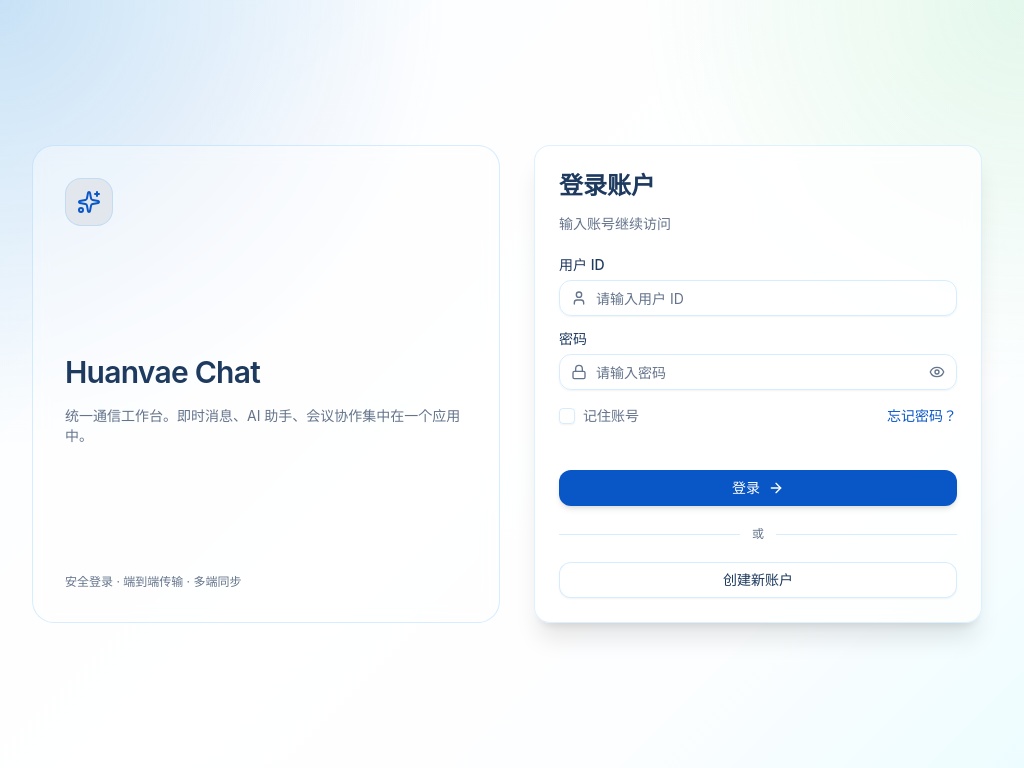
LoginForm —— 「忘记密码」 › 点击后给出可操作的说明，而不是毫无反应
Expected: the text "联系管理员" is not shown
Click the button "忘记密码？" at (922, 416), box [887,406,957,426]
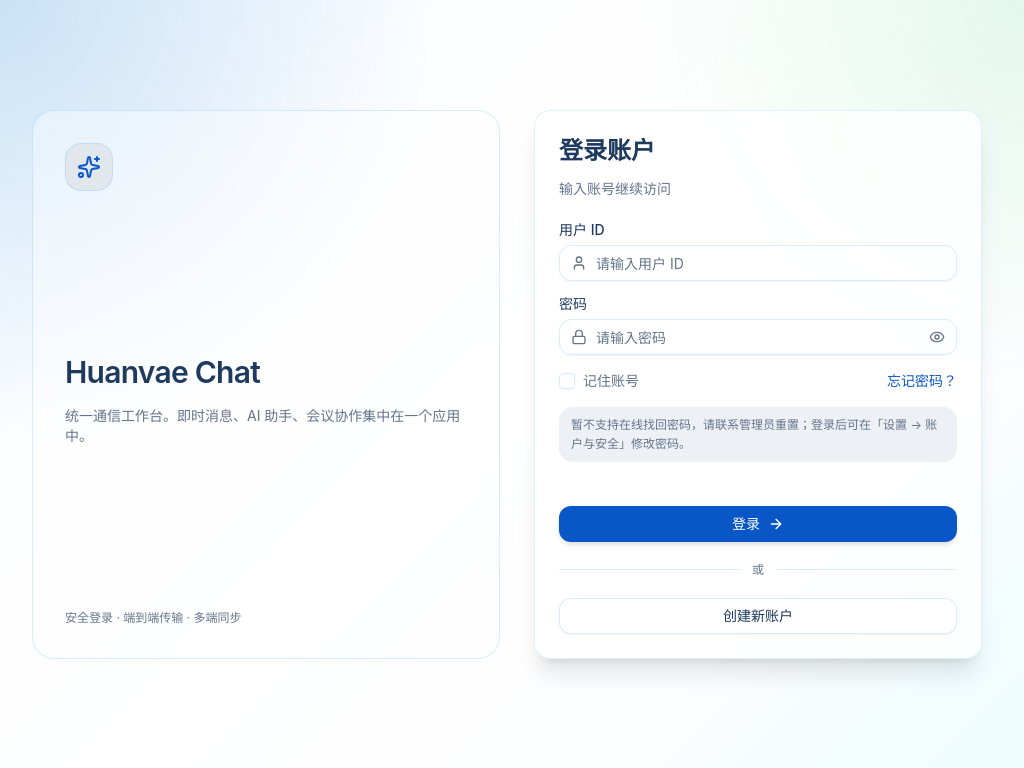
Result: the text "暂不支持在线找回密码，请联系管理员重置；登录后可在「设置 → 账户与安全」修改密码。" is shown at [559,406,957,462]
Result: the button "忘记密码？" is expanded at [887,370,957,390]
